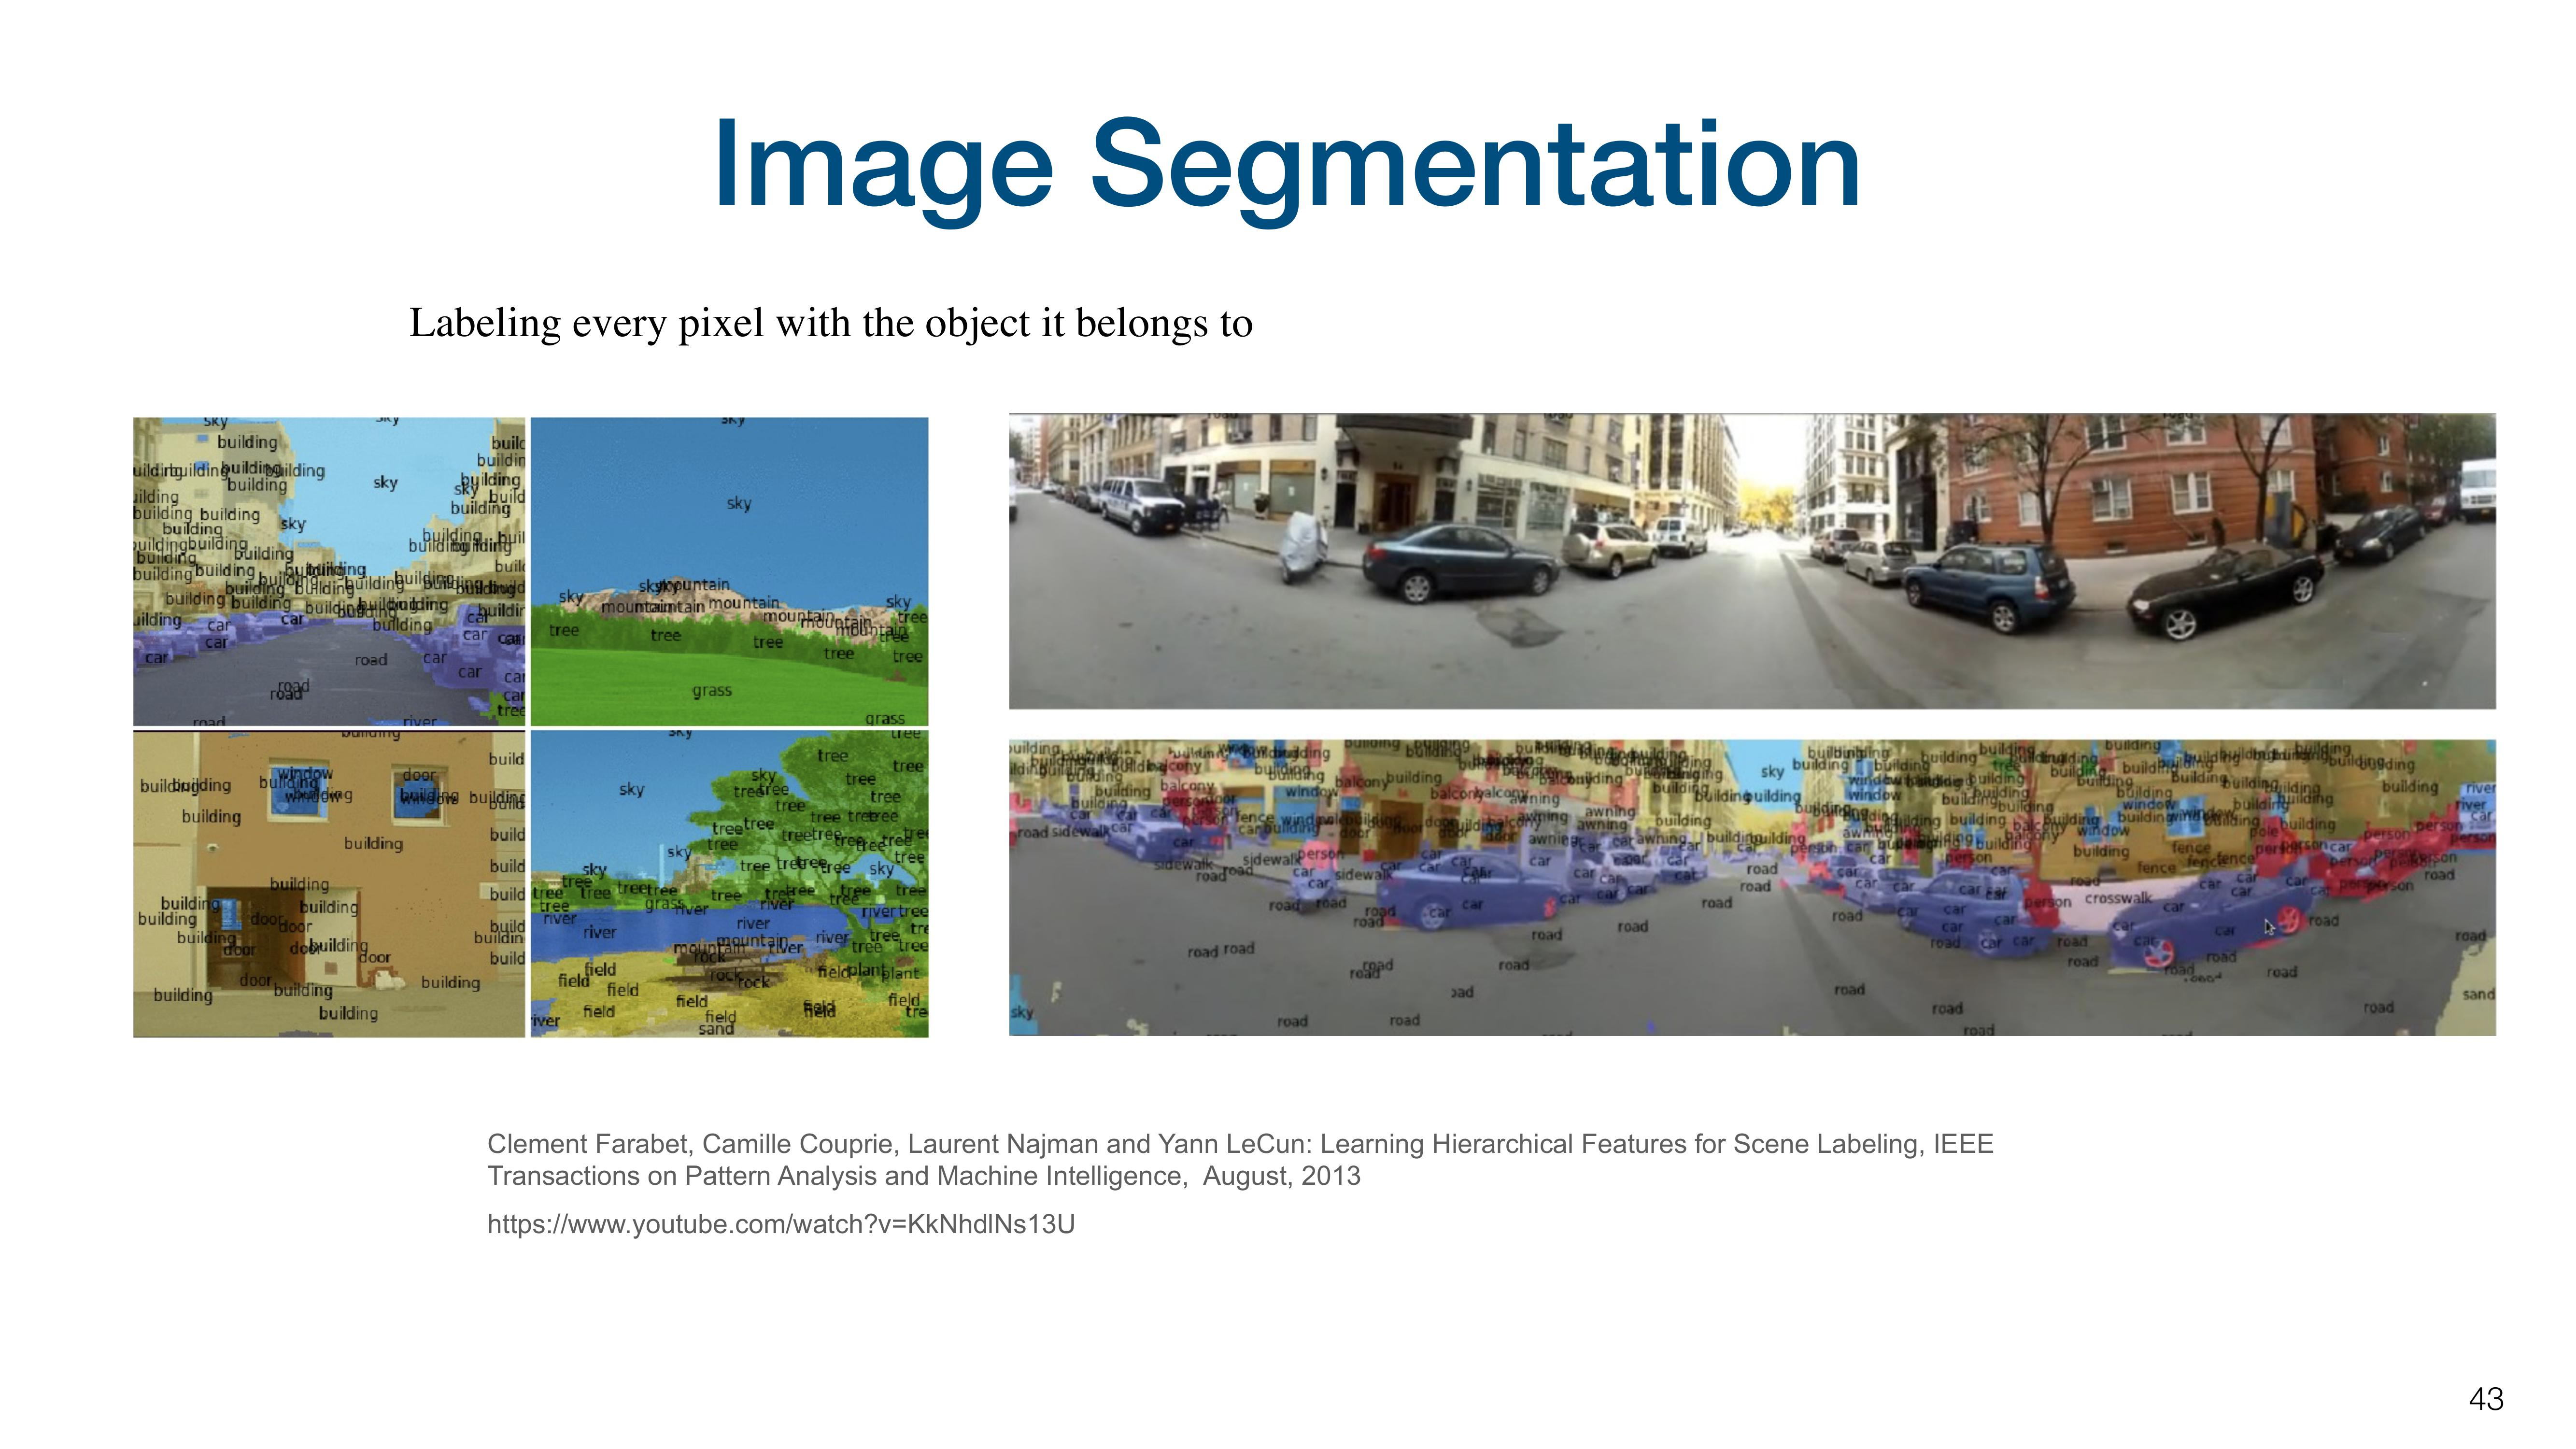Title: (685, 103, 1874, 253)
